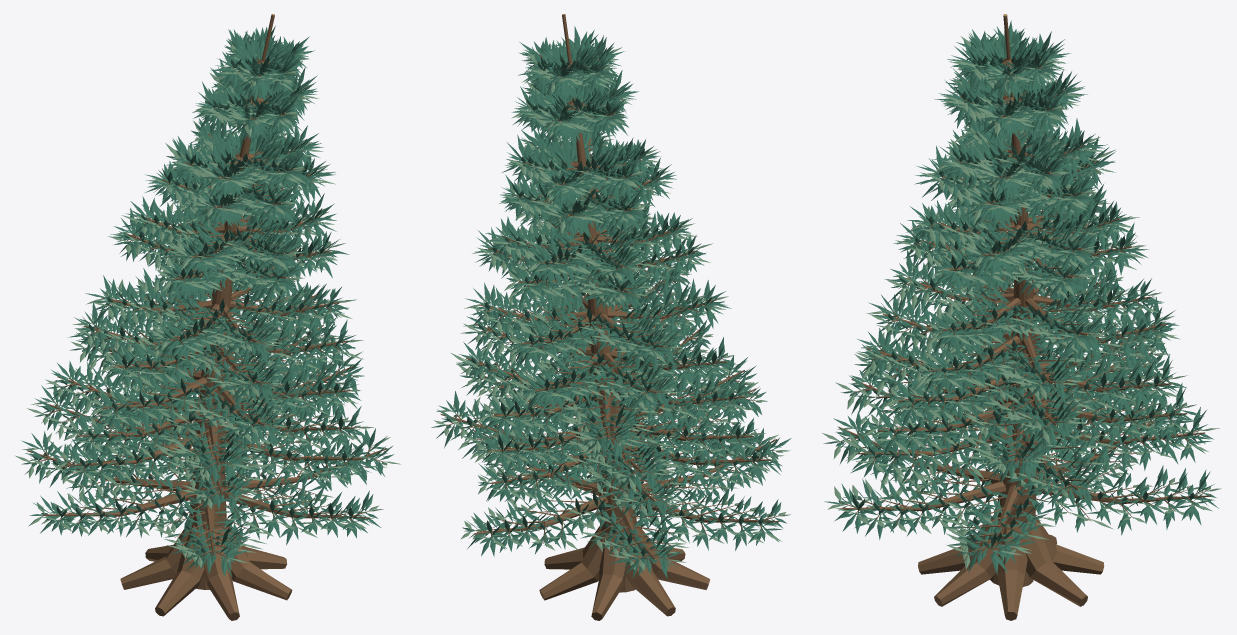
Rendered from wind_cedar.glb.
The picture shows the model from 3 angles, left to right: view 1: azimuth 30°, elevation 25°; view 2: azimuth 150°, elevation 25°; view 3: azimuth 270°, elevation 25°; orthographic projection. The views are drawn at different scales.
Parts seen in each view (by area): view 1: wind_cedar_detailed.002; view 2: wind_cedar_detailed.002; view 3: wind_cedar_detailed.002.
Part boxes in pixels (bbox=[...]): wind_cedar_detailed.002: bbox=[15, 14, 400, 620]; wind_cedar_detailed.002: bbox=[431, 14, 791, 620]; wind_cedar_detailed.002: bbox=[822, 14, 1221, 620].
Size of the model in its own units: 3.91 by 6.05 by 3.67.
